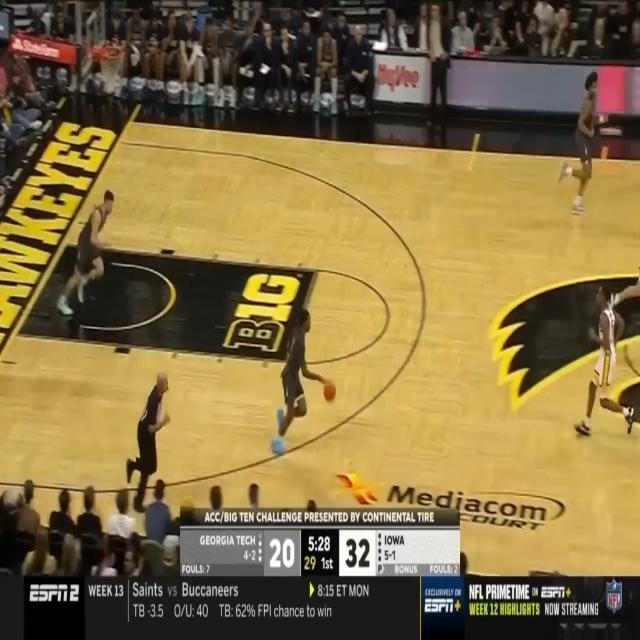Ball: (322, 379, 337, 403)
Hoop: (100, 42, 126, 94)
Period: (322, 555, 334, 571)
Player: (573, 280, 635, 438), (270, 306, 326, 460), (558, 68, 608, 215), (58, 188, 114, 315), (608, 258, 640, 308)
Ref: (125, 367, 171, 511)
Shot Clock: (304, 554, 316, 572)
Team Name: (199, 534, 256, 547), (384, 533, 406, 547)
Team Points: (345, 536, 370, 570), (270, 538, 294, 570)
Time Remaining: (307, 534, 331, 553)
